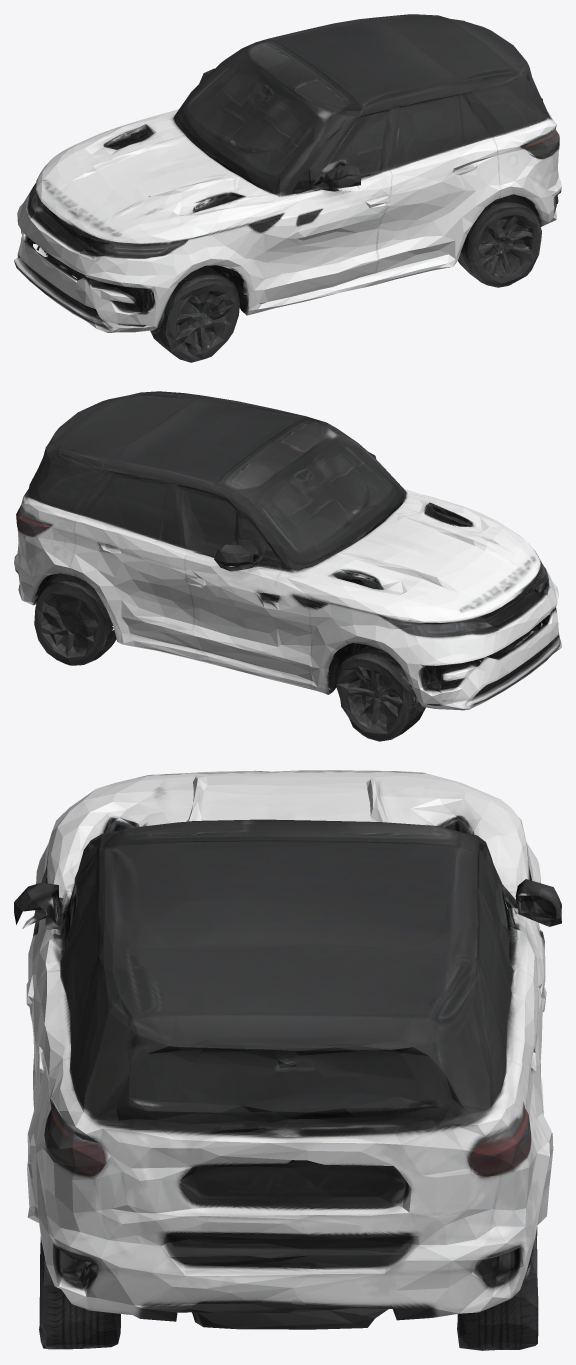
File: Luxury_in_Motion_0622114320_texture.fbx
3 renders of one model, top to bottom at view 1: azimuth 30°, elevation 25°; view 2: azimuth 150°, elevation 25°; view 3: azimuth 270°, elevation 25°, orthographic. The views are drawn at different scales.
Visible parts, largest first — view 1: temp; view 2: temp; view 3: temp.
Part boxes in pixels (bbox=[...]): temp: bbox=[14, 14, 561, 362]; temp: bbox=[14, 391, 561, 741]; temp: bbox=[14, 770, 561, 1350].
Bounding box in the file's own units: 200 × 82.61 × 106.
Materials: 1 (1 with a texture image).
